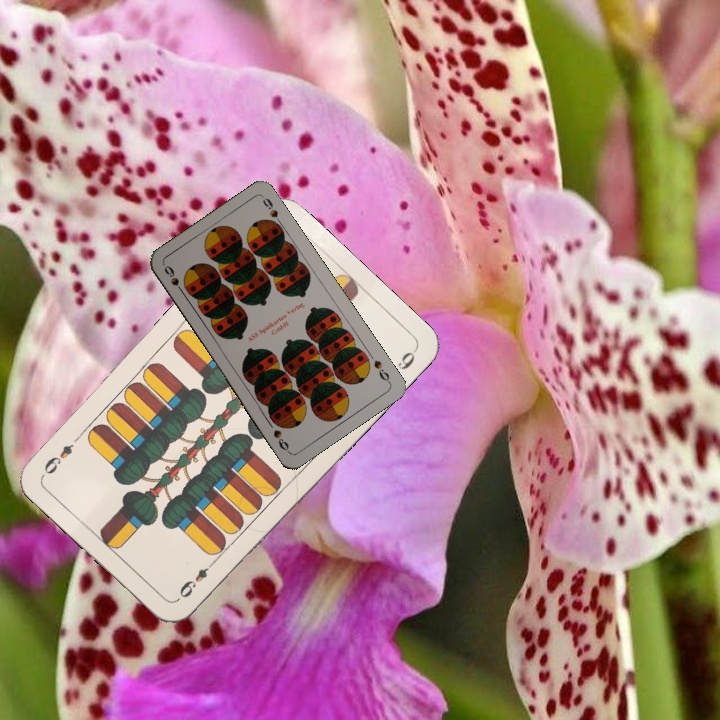E9: (173, 556, 218, 603)
S9: (160, 261, 188, 298), (369, 356, 393, 386)
